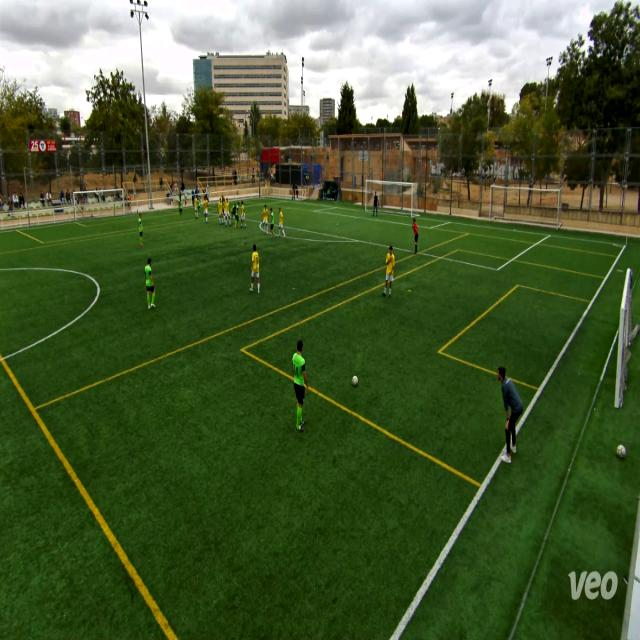bigarea_bottom_inner: (492, 263, 503, 276)
bigarea_bottom_outter: (546, 230, 554, 240)
bigarea_top_outter: (284, 197, 289, 206)
bottom_arc_area_intersection: (355, 235, 366, 248)
corner: (620, 236, 630, 253), (262, 196, 266, 201)
smallarea_bottom_inner: (428, 222, 435, 235)
smallarea_bottom_outter: (446, 217, 454, 227)
smallarea_top_inner: (311, 207, 318, 216)
smallarea_top_outter: (334, 202, 341, 213)
